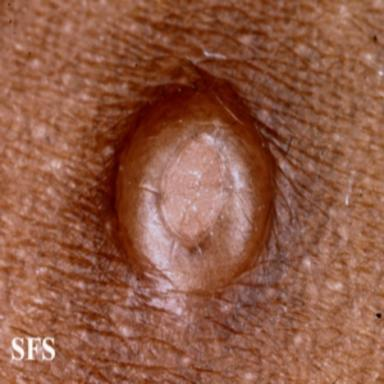Molluscum-Contagiosum: (106, 79, 277, 296)
